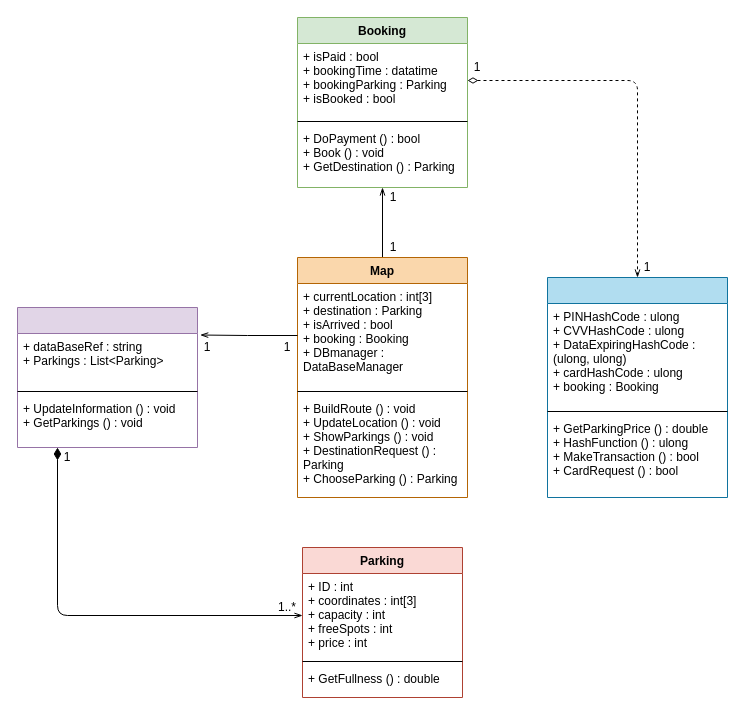
Image size: 745x718. Some labels were removed from this diagram. The shapes that lost their labels are listed below. From the top down, each one's box as (x1, y1, x2, y2) in pixels, then its label:
(16, 306, 198, 448): DataBaseManager
(546, 276, 728, 498): Payment
